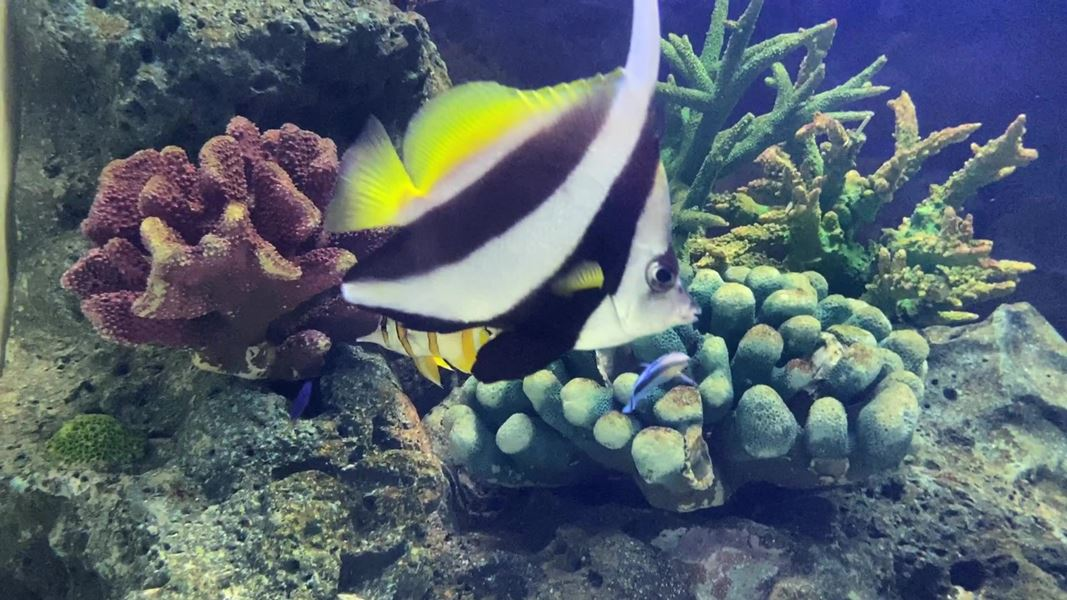Bluesteak cleaner wrasse: (615, 347, 706, 420)
